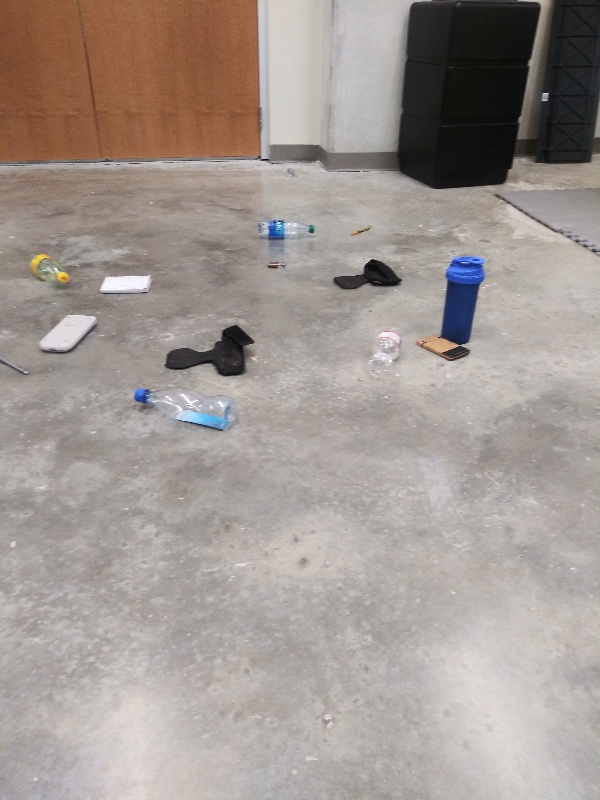bottle: (130, 383, 239, 435), (364, 324, 406, 382), (21, 248, 72, 290), (254, 215, 319, 245)
